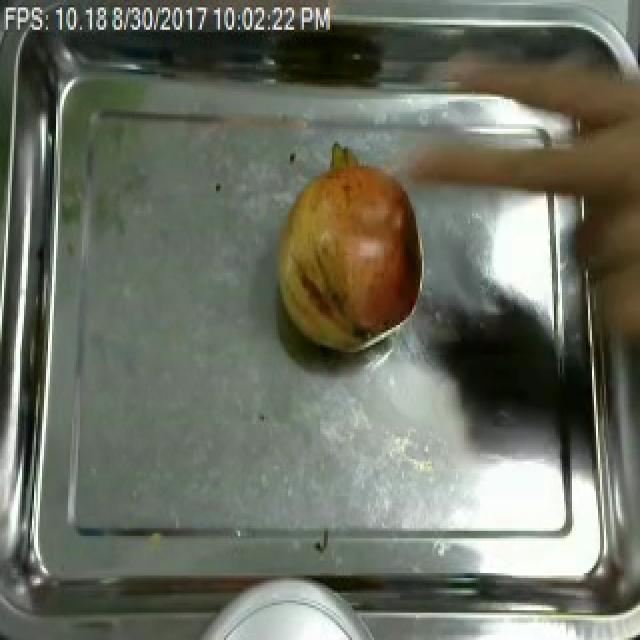fruit: (270, 139, 434, 367)
